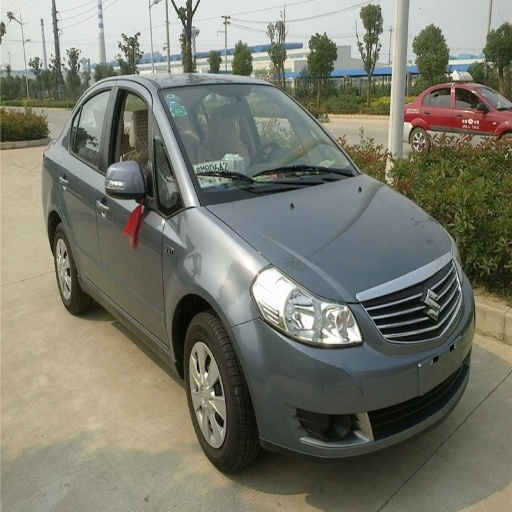front_bumper: (232, 318, 470, 457)
front_right_door: (99, 82, 163, 334)
front_right_light: (254, 267, 362, 347)
